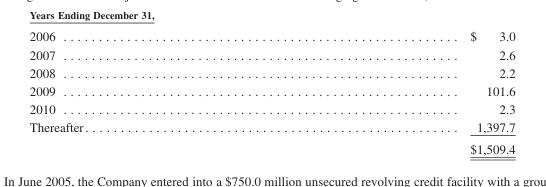table: (28, 28, 514, 155)
table column: (28, 28, 278, 155), (278, 28, 514, 155)
table row: (28, 117, 514, 137), (28, 45, 514, 63), (28, 63, 514, 81), (28, 81, 514, 99), (28, 99, 514, 117), (28, 137, 514, 155), (28, 28, 514, 45)
